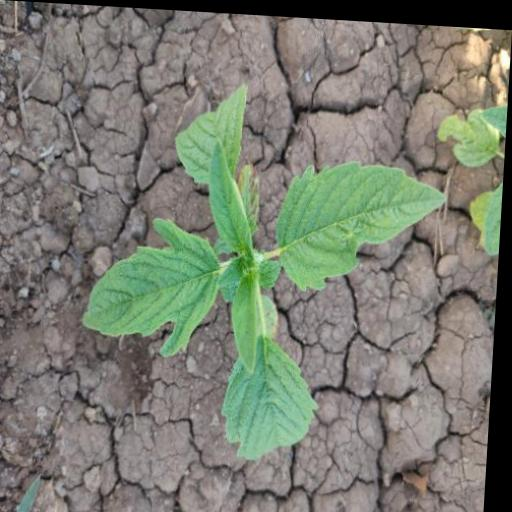crop: (56, 44, 463, 476)
